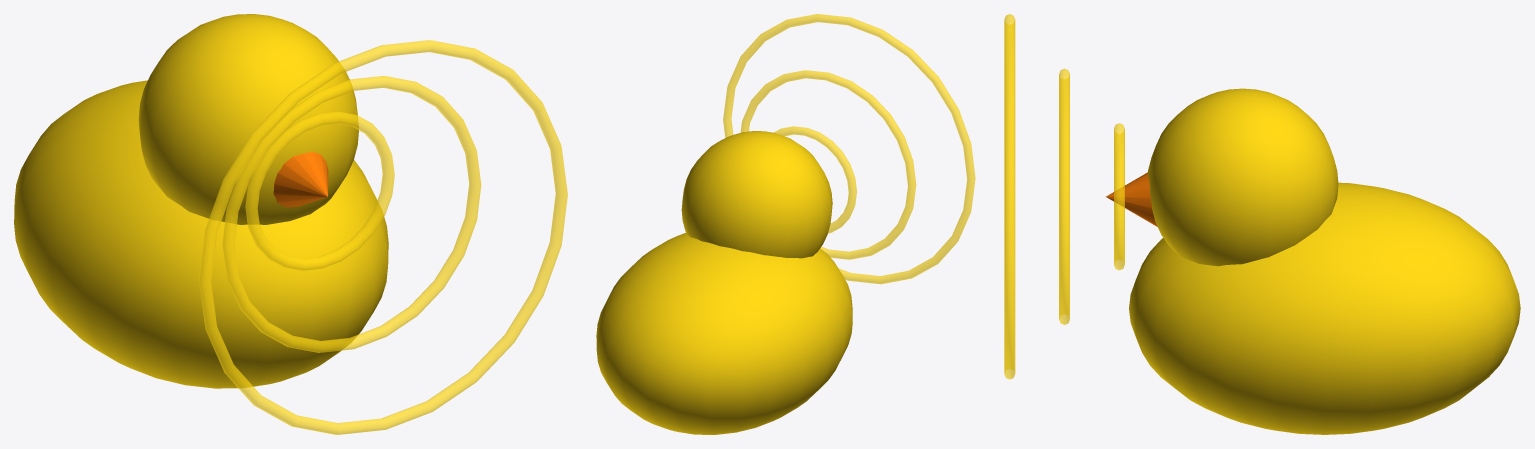
File: squeaky_dog.glb
3 views of the same model, side by side, from view 1: azimuth 30°, elevation 25°; view 2: azimuth 150°, elevation 25°; view 3: azimuth 270°, elevation 25° (orthographic). The views are drawn at different scales.
Parts seen in each view (by area): view 1: model_squeaky_dog; view 2: model_squeaky_dog; view 3: model_squeaky_dog.
Part boxes in pixels (<box>): model_squeaky_dog: <box>14,14,567,434</box>; model_squeaky_dog: <box>596,14,975,434</box>; model_squeaky_dog: <box>1004,14,1520,434</box>.
Bounding box in the file's own units: 2.68 × 3.12 × 3.77.
